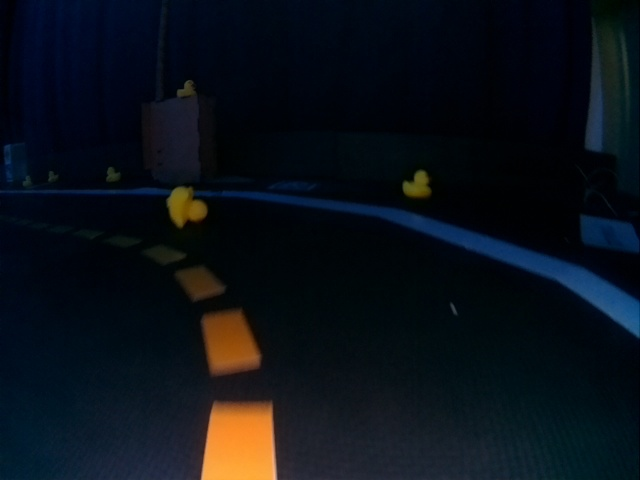Duckie: (167, 186, 206, 228), (402, 170, 431, 197), (176, 78, 197, 97), (105, 166, 120, 184), (48, 171, 56, 180), (23, 176, 31, 184)
QR code: (269, 179, 320, 192)
